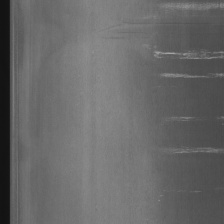waist_folding: (93, 8, 224, 176)
